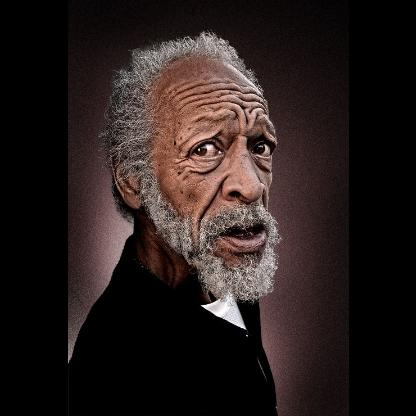Male: (112, 60, 278, 300)
